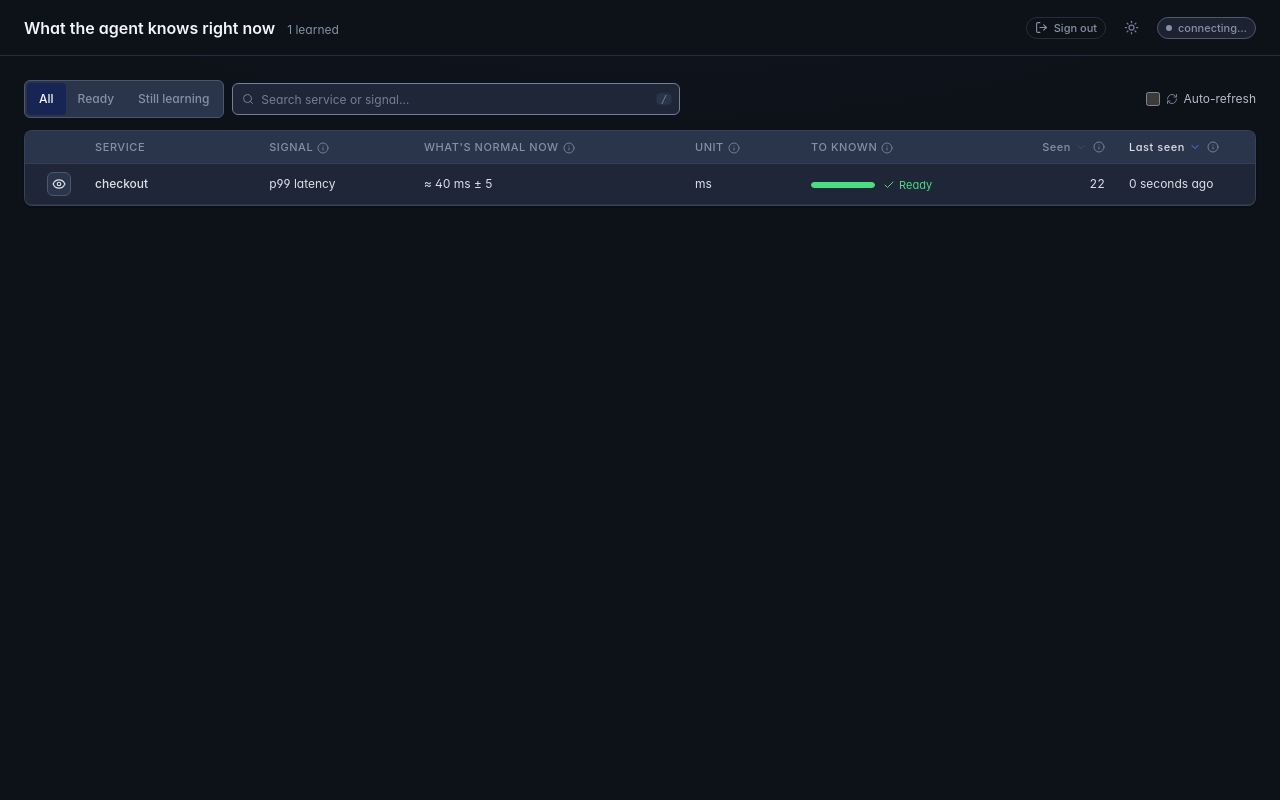
Test: LearnedSignalsView peek — raw-sample-store 'Example metric/trace' › renders latest_sample under 'Example metric' in the metrics peek
Click the button titled "View details": (59, 184) [47,172,71,196]
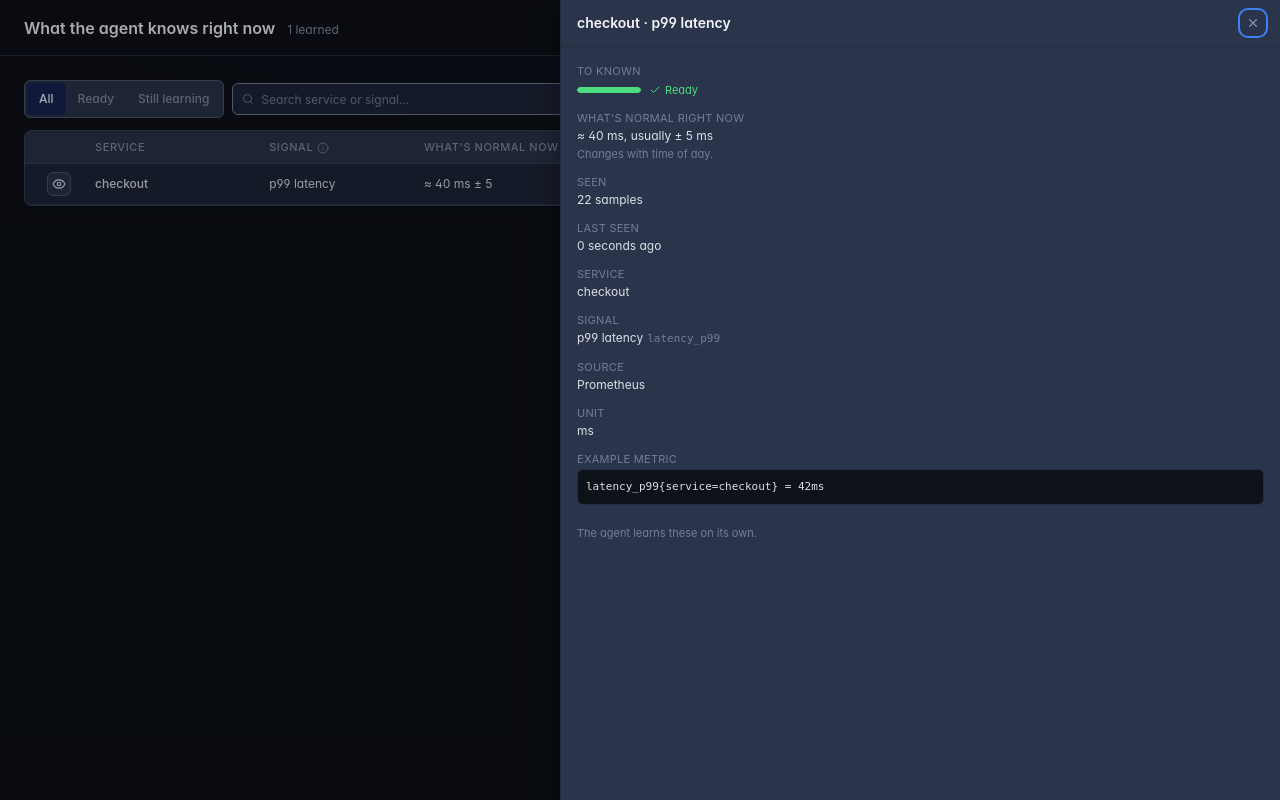
Expected: the text "Example metric" is shown, [577,452,677,466]
Expected: the text "latency_p99{service=checkout} = 42ms" is shown, [577,469,1264,505]
